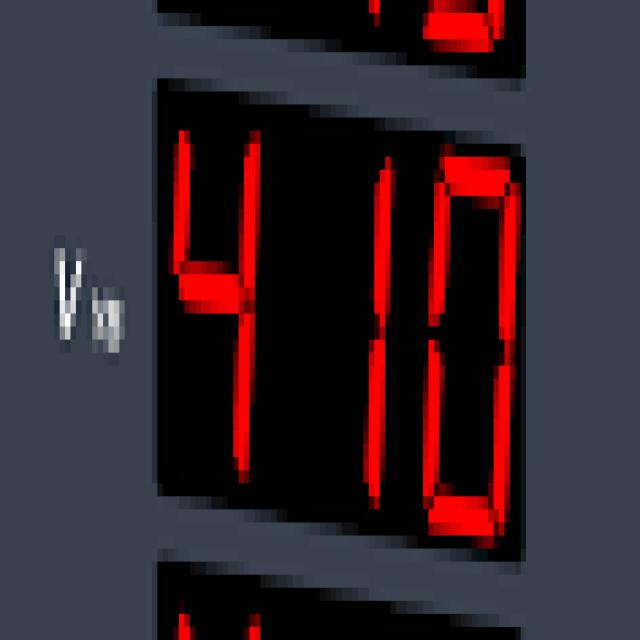0: (423, 133, 524, 558)
1: (345, 121, 414, 553)
4: (160, 98, 292, 512)
screen: (152, 70, 534, 572)
